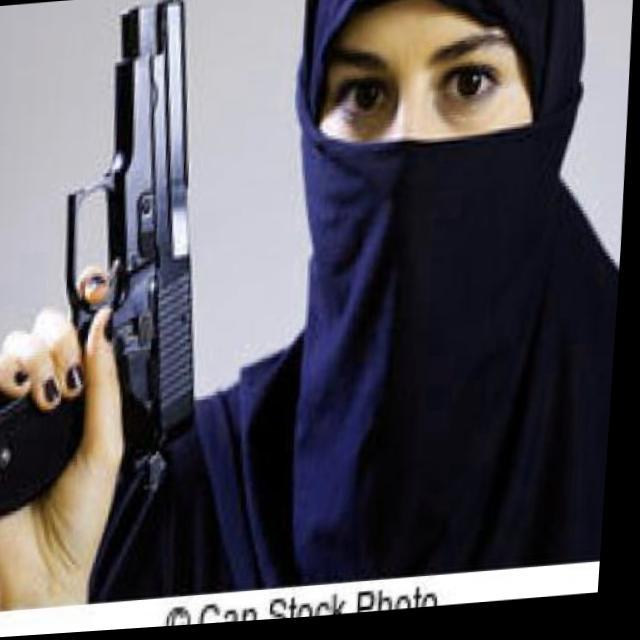weapon: (0, 0, 247, 535)
